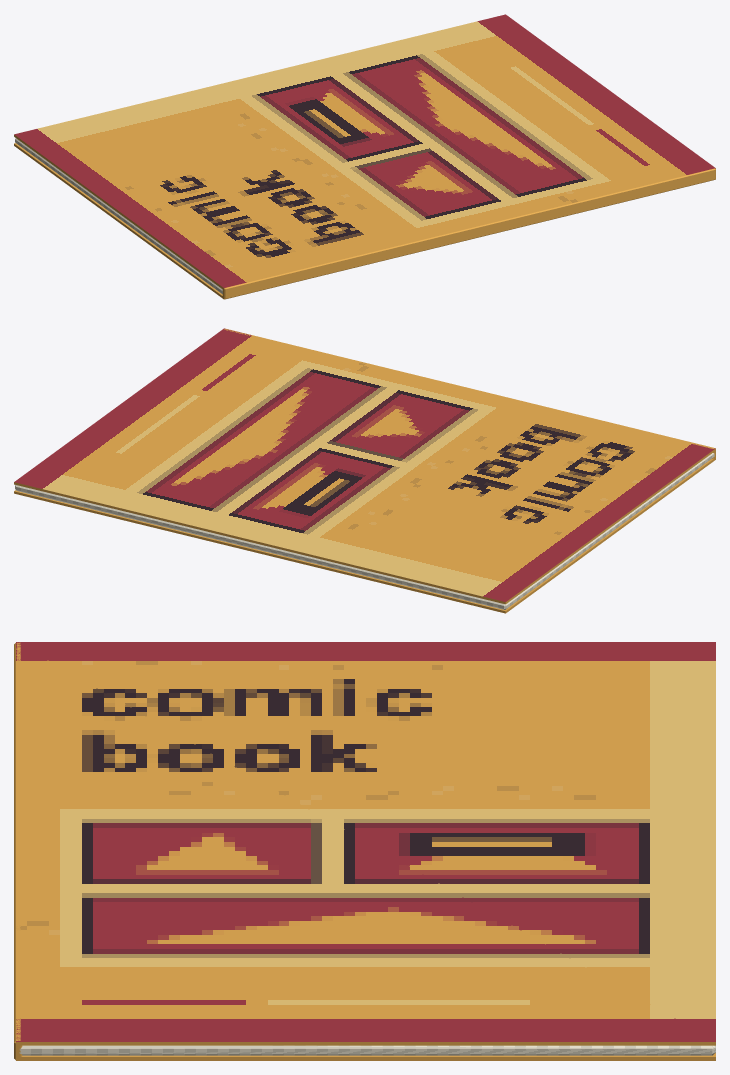
File: mag_comic.glb
3 renders of one model, top to bottom at view 1: azimuth 30°, elevation 25°; view 2: azimuth 150°, elevation 25°; view 3: azimuth 270°, elevation 25°, orthographic. The views are drawn at different scales.
Visible parts, largest first — view 1: block_front, block_spine, block_pages, block_back; view 2: block_front, block_pages, block_back, block_spine; view 3: block_front, block_pages, block_back, block_spine.
Boxes of the visible parts, box(x1,y1,x2,y2) form: block_front: box(14, 14, 715, 289); block_spine: box(222, 168, 715, 299); block_pages: box(15, 138, 222, 294); block_back: box(14, 143, 715, 299); block_front: box(14, 328, 715, 604); block_pages: box(15, 453, 714, 609); block_back: box(14, 457, 715, 613); block_spine: box(224, 329, 715, 458); block_front: box(16, 642, 715, 1045); block_pages: box(19, 1045, 715, 1055); block_back: box(16, 1053, 715, 1060); block_spine: box(14, 642, 22, 1059).
Size of the model in its own units: 0.27 by 0.006 by 0.2004.
1 material, 1 textured.
